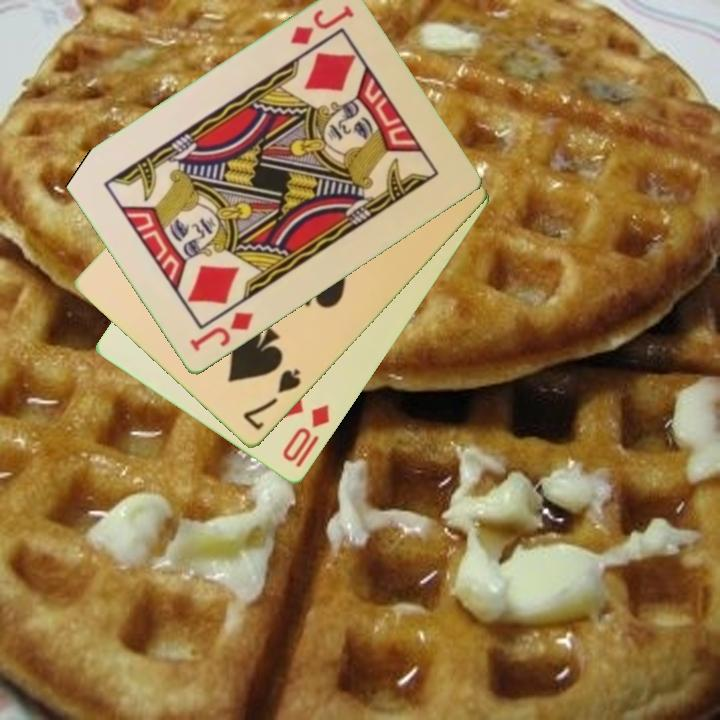10d: (279, 401, 333, 471)
7s: (239, 365, 304, 434)
Jd: (186, 308, 257, 355), (286, 2, 357, 49)
